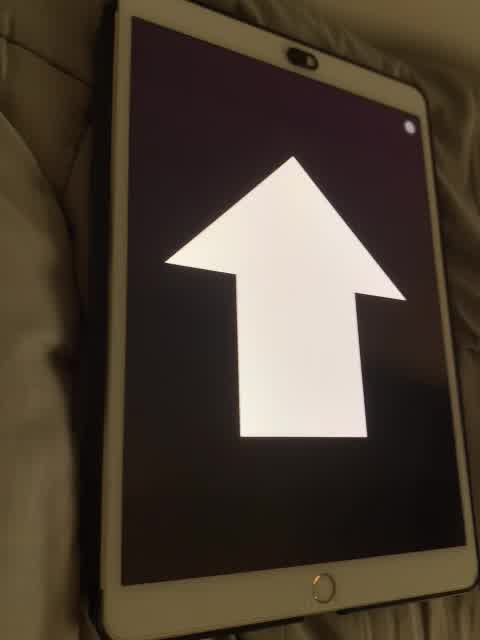up: (163, 150, 406, 446)
